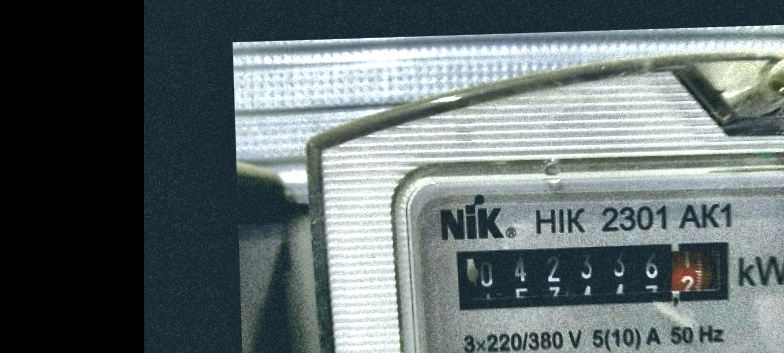0: (477, 259, 494, 288)
1: (680, 247, 693, 269)
2: (545, 253, 562, 283), (679, 273, 695, 291)
3: (609, 248, 626, 279), (577, 251, 593, 280)
4: (511, 253, 529, 283)
6: (643, 249, 661, 280)
screen: (445, 228, 743, 319)
